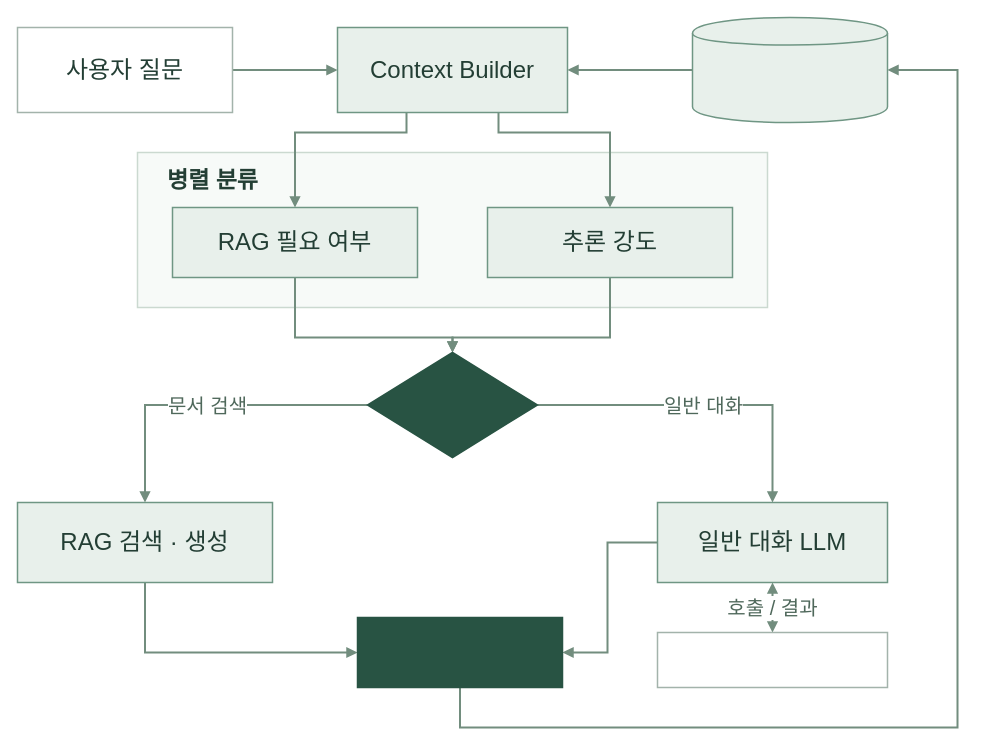
The diagram is 984 pixels wide and 754 high, and some of its shapes have lost their labels. The shapes that lost their labels are listed below. From the top down, each one's centre as x and y in pixels, then its label:
At point 789,69: "대화 메모리 thread_id".
At point 452,404: "Router".
At point 459,652: "응답 · SSE".
At point 772,659: "도구 실행".
